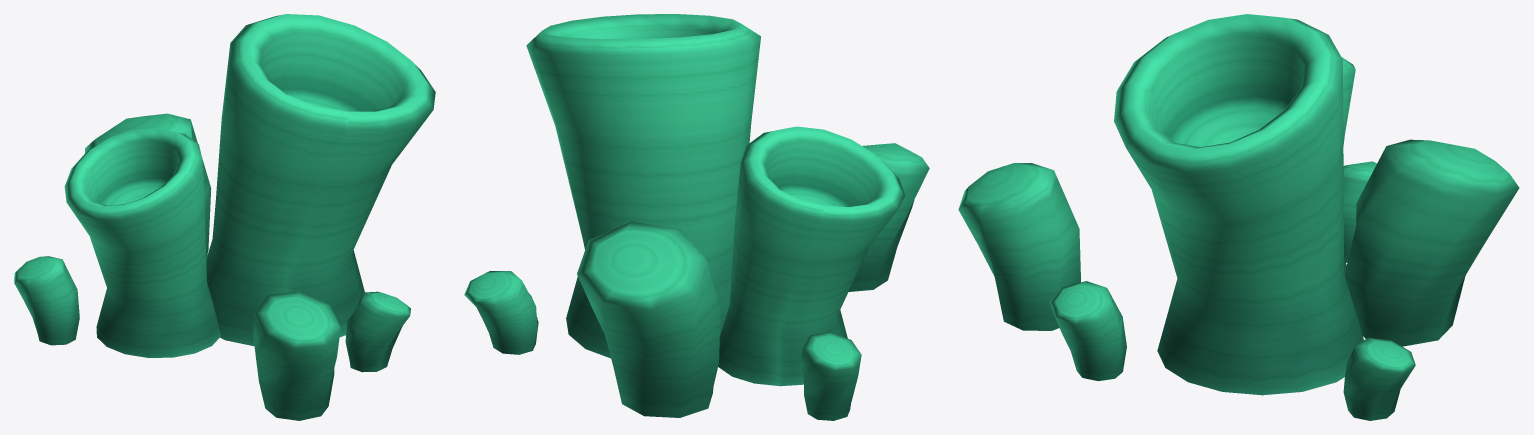
File: GreenCluster2.fbx
The picture shows the model from 3 angles, left to right: view 1: azimuth 30°, elevation 25°; view 2: azimuth 150°, elevation 25°; view 3: azimuth 270°, elevation 25°; orthographic projection. The views are drawn at different scales.
Visible parts, largest first — view 1: GreenCluster2; view 2: GreenCluster2; view 3: GreenCluster2.
Boxes of the visible parts, x1,y1,x2,y2 form: GreenCluster2: (14,14,435,420); GreenCluster2: (464,14,929,420); GreenCluster2: (958,14,1519,420).
Size of the model in its own units: 100 by 77.77 by 119.
Materials: 1 (1 with a texture image).
